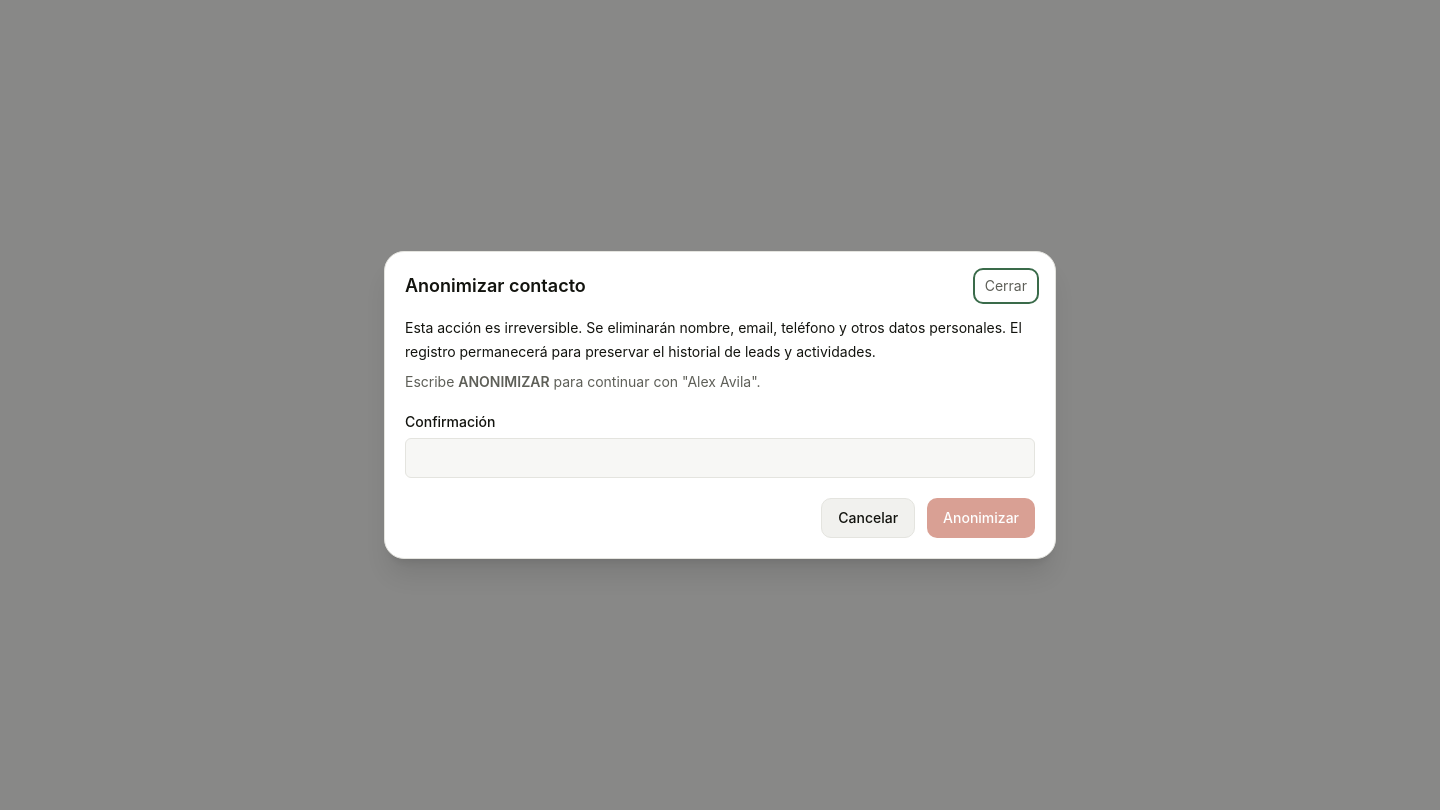
Test: AnonymizeContactDialog › al escribir ANONIMIZAR se habilita
In the field labelled "Confirmación": (720, 458) x1=405 y1=438 x2=1035 y2=478, type "ANONIMIZAR"
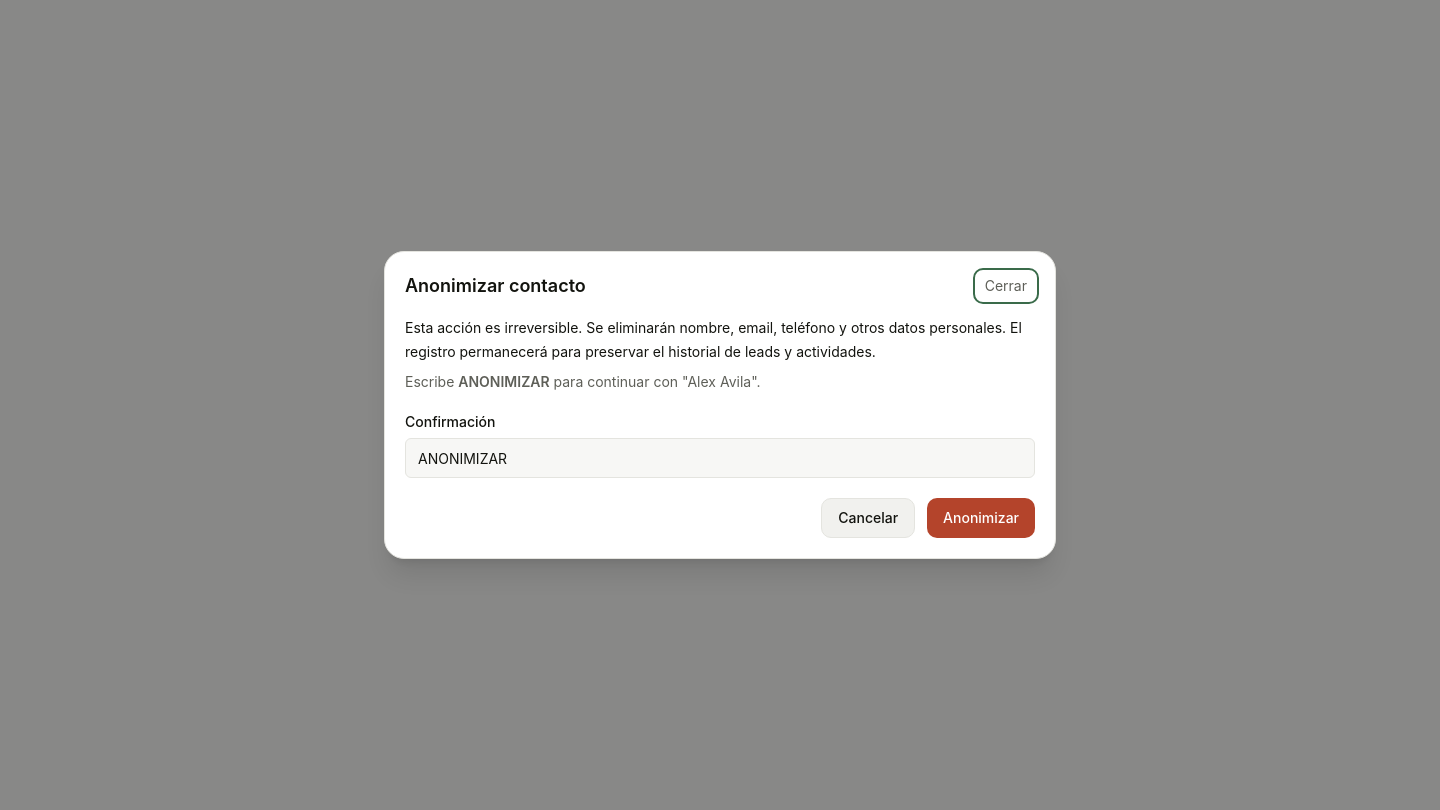
Now the button "Anonimizar" is enabled, box x1=927 y1=498 x2=1035 y2=538
